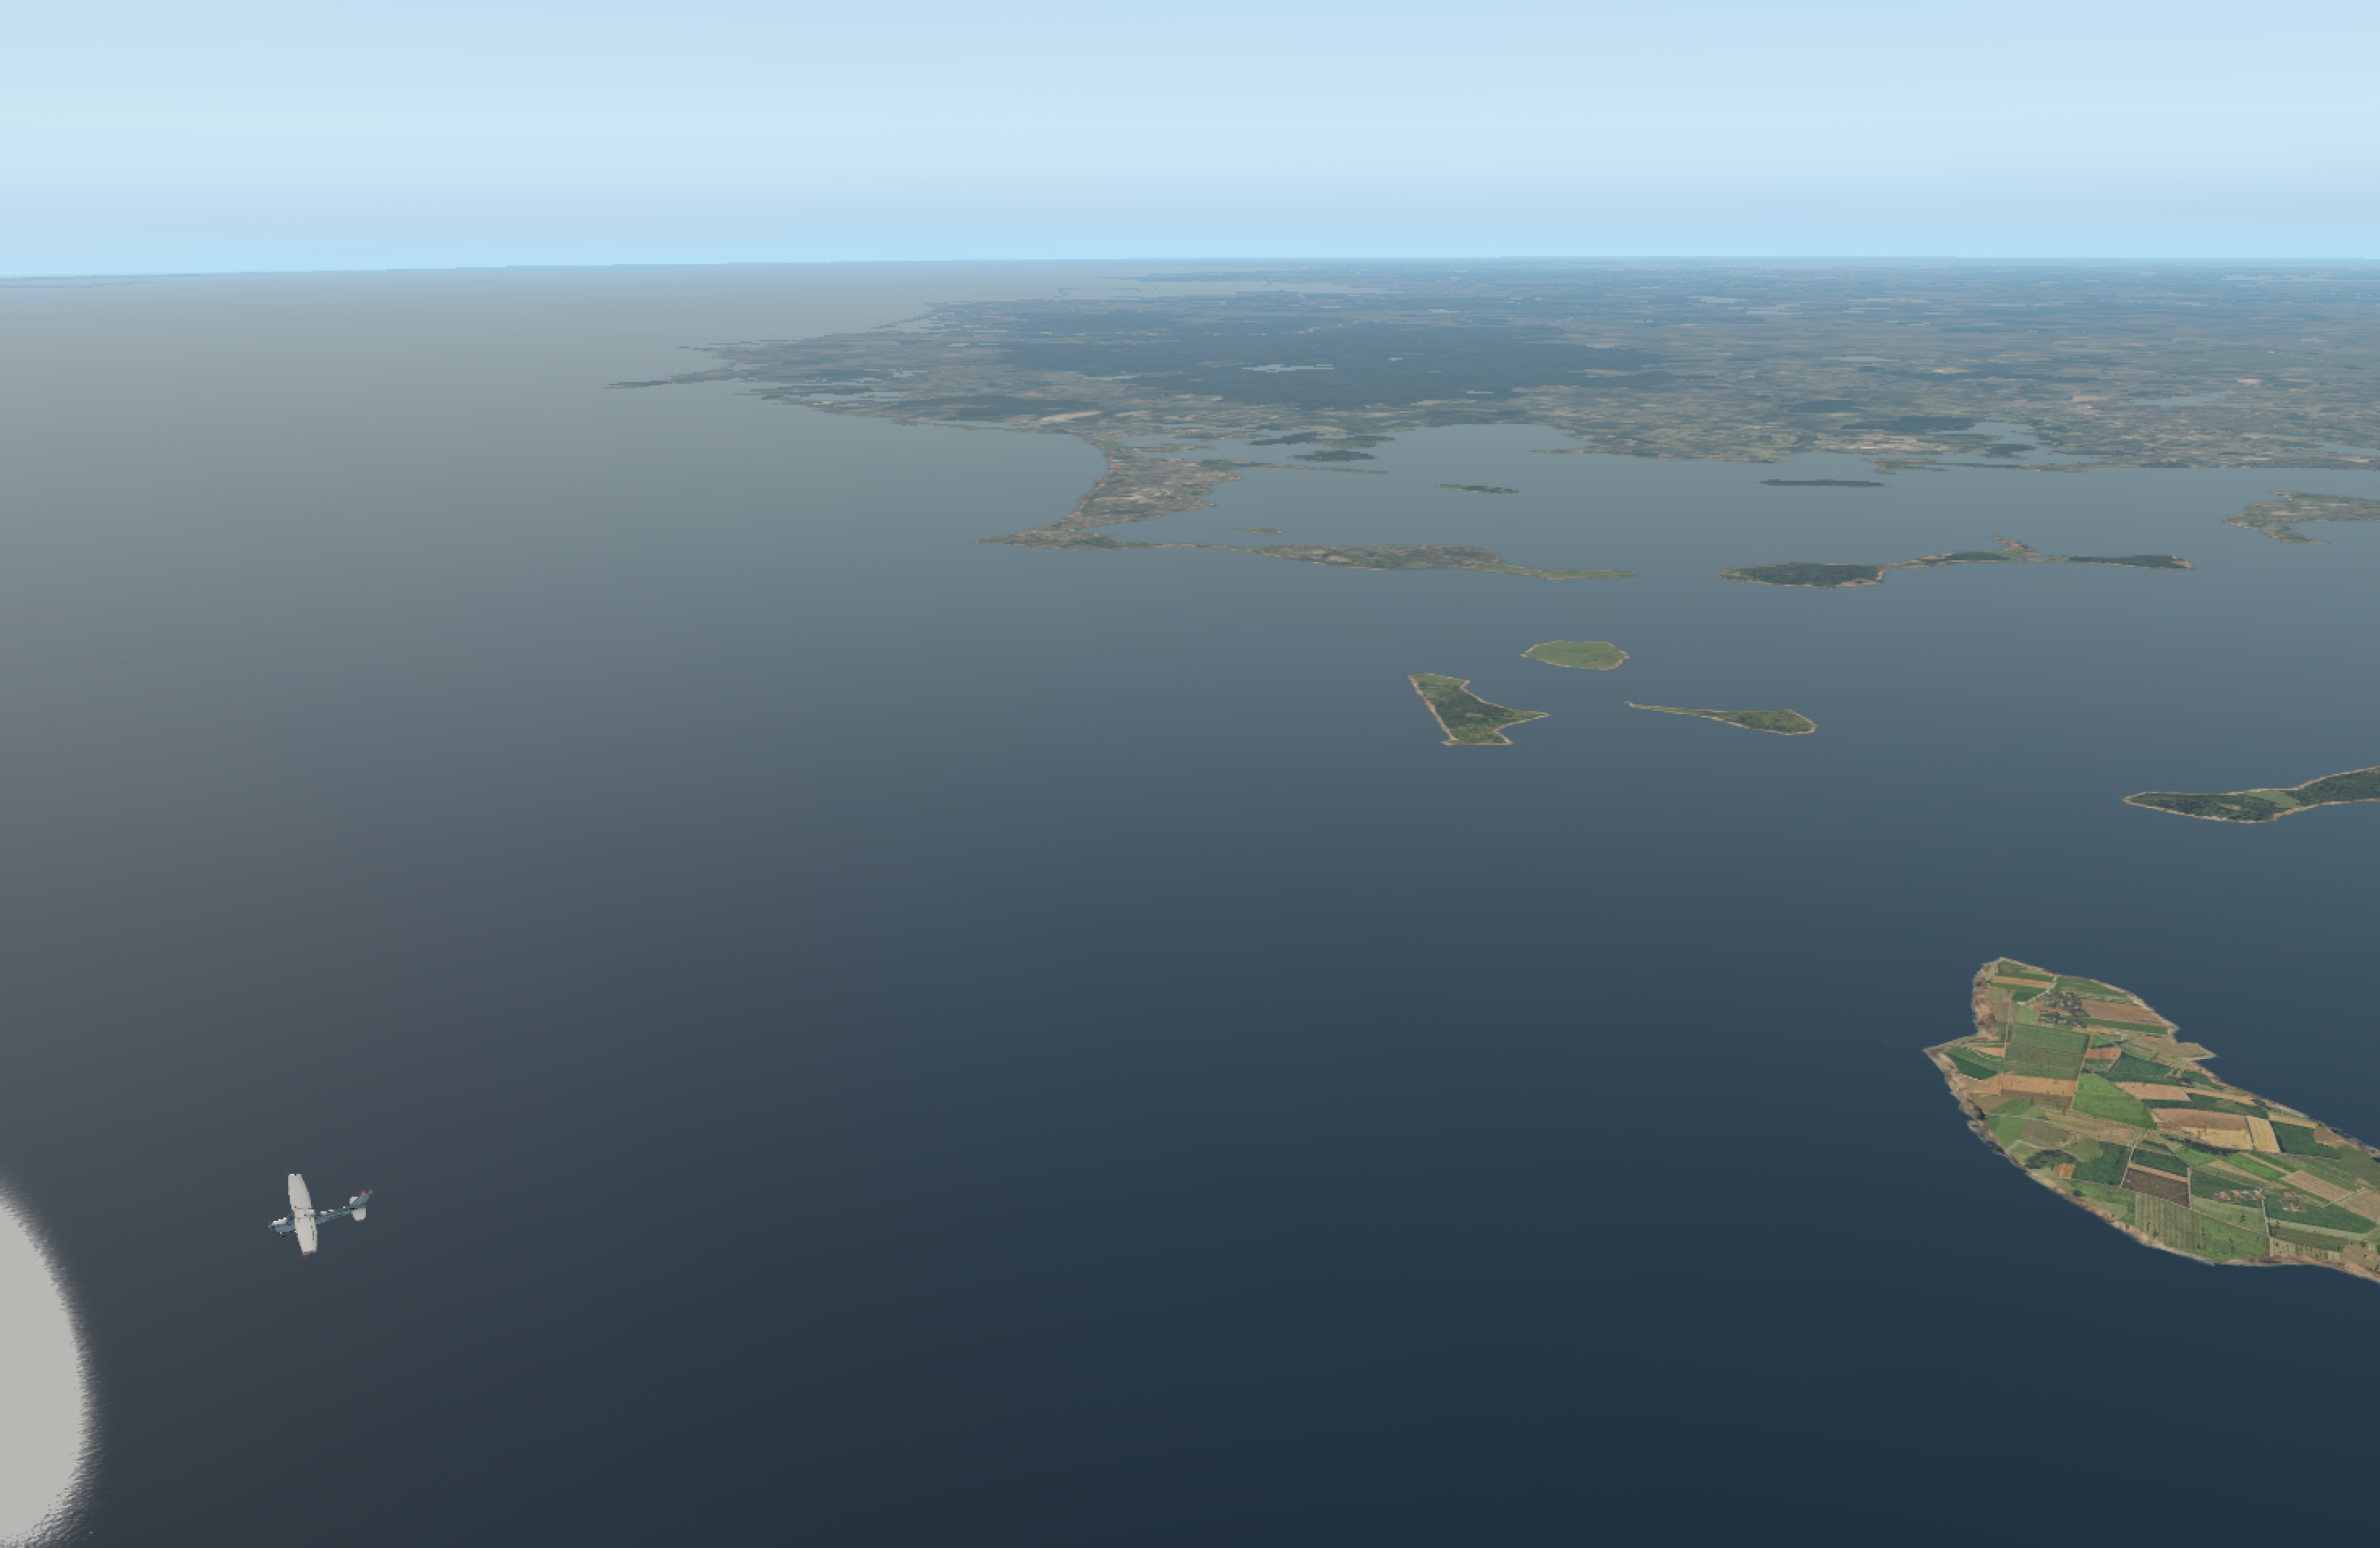aircraft: (257, 1204, 342, 1236)
